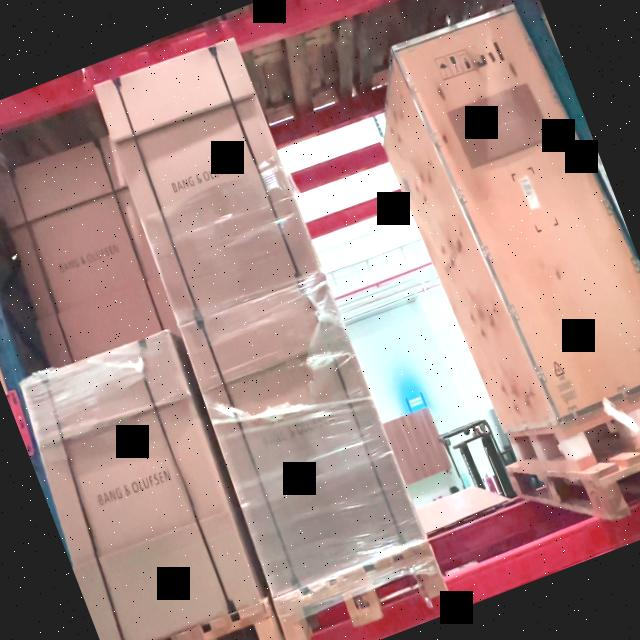box: (182, 276, 418, 584), (98, 42, 317, 318), (0, 139, 174, 362)
